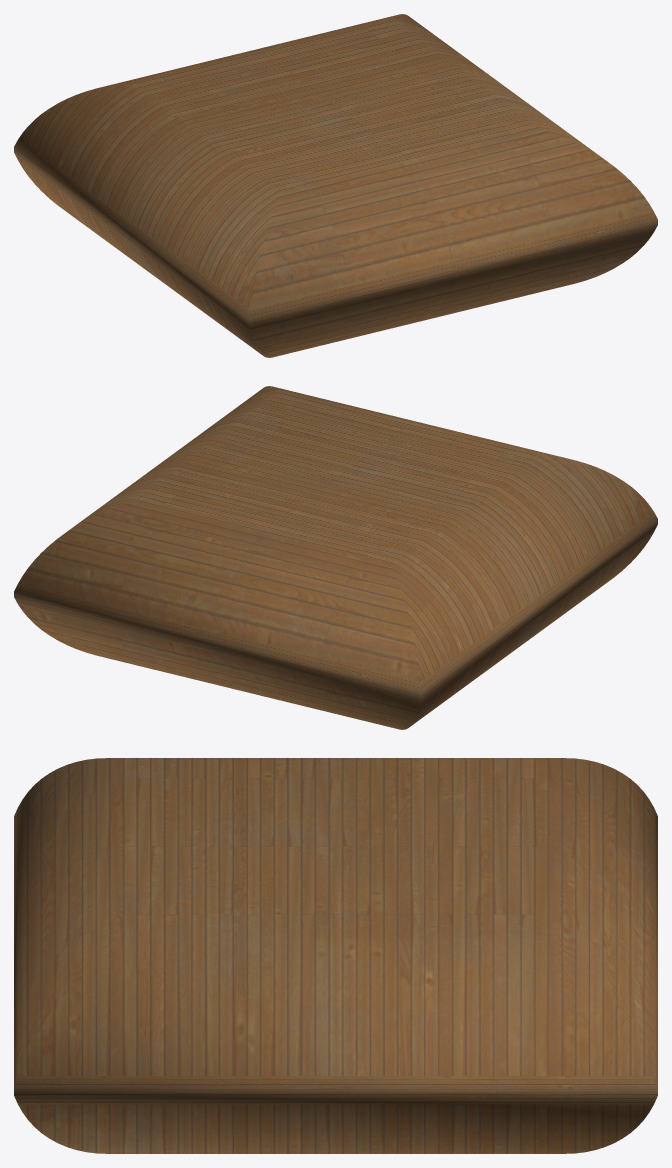
Rendered from almofada.fbx.
3 renders of one model, top to bottom at view 1: azimuth 30°, elevation 25°; view 2: azimuth 150°, elevation 25°; view 3: azimuth 270°, elevation 25°, orthographic. The views are drawn at different scales.
Visible parts, largest first — view 1: Box001; view 2: Box001; view 3: Box001.
Boxes of the visible parts, x1,y1,x2,y2 form: Box001: (14,14,657,357); Box001: (14,386,657,729); Box001: (14,758,657,1153).
Size of the model in its own units: 80 by 30 by 80.
